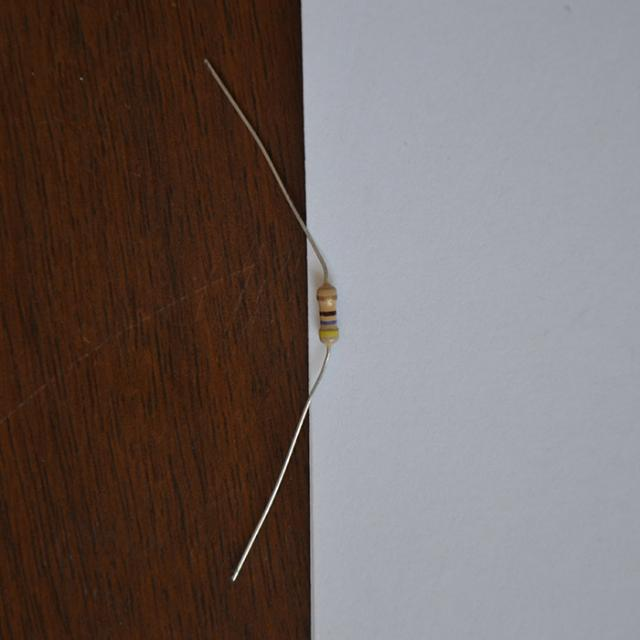brown: (320, 311, 336, 317)
gold: (318, 294, 336, 300)
resistor: (310, 282, 344, 351)
violet: (321, 321, 338, 326)
yellow: (320, 329, 338, 336)
